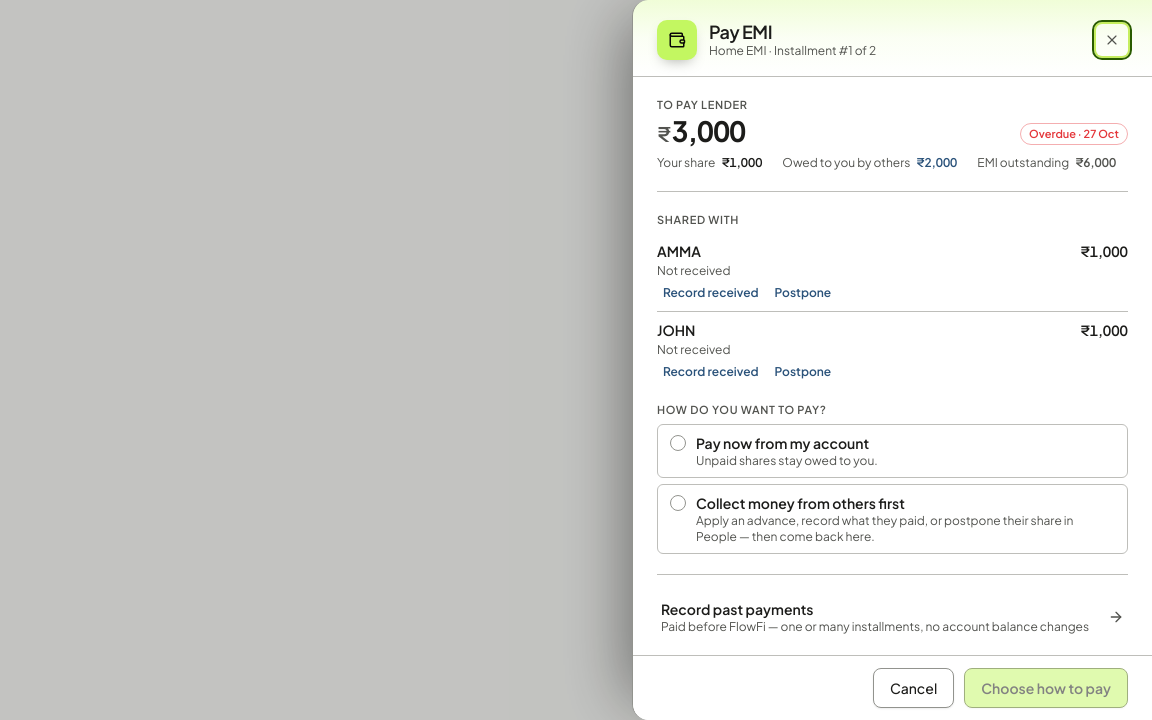
Test case: B — AMMA and JOHN haven't paid › 'Collect money from others first': pick a person, the footer opens THEIR People payment — never the lender
Click the radio button labelled "Collect money from others first".
click(892, 519)  # box [657, 484, 1128, 554]
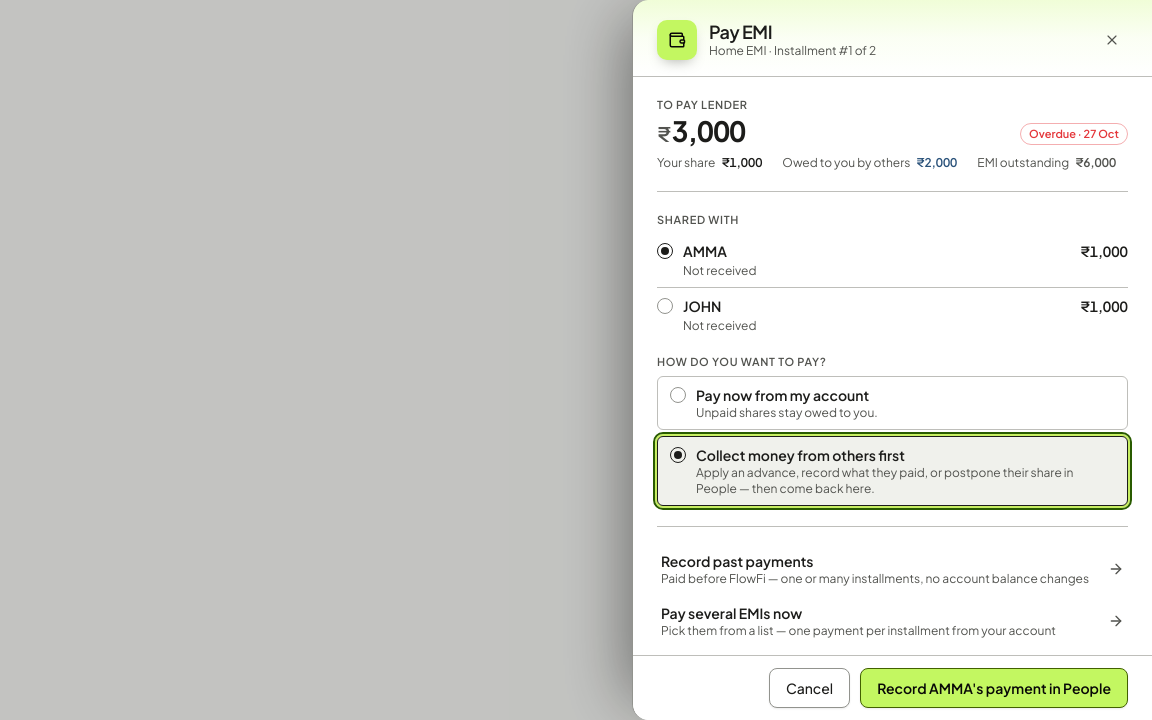
Click the radio button with aria-label "Collect from JOHN".
click(702, 306)  # box [657, 296, 1128, 334]
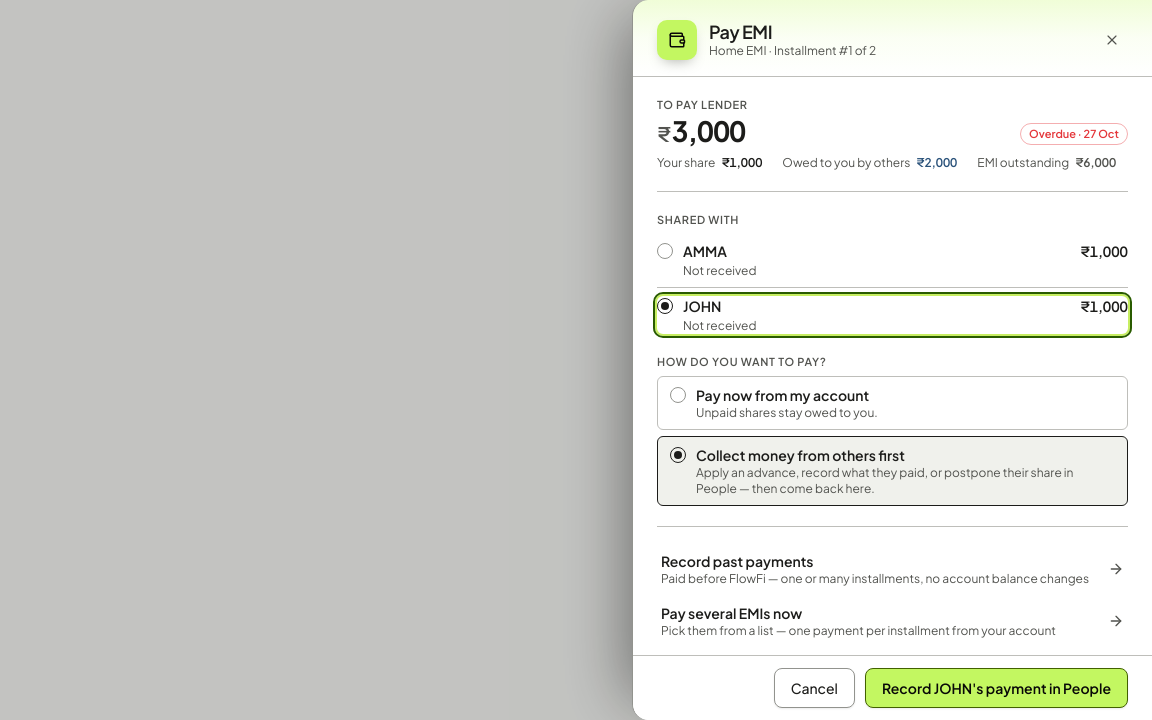
Click the button "Record JOHN's payment in People".
click(996, 688)  # box [865, 668, 1128, 708]
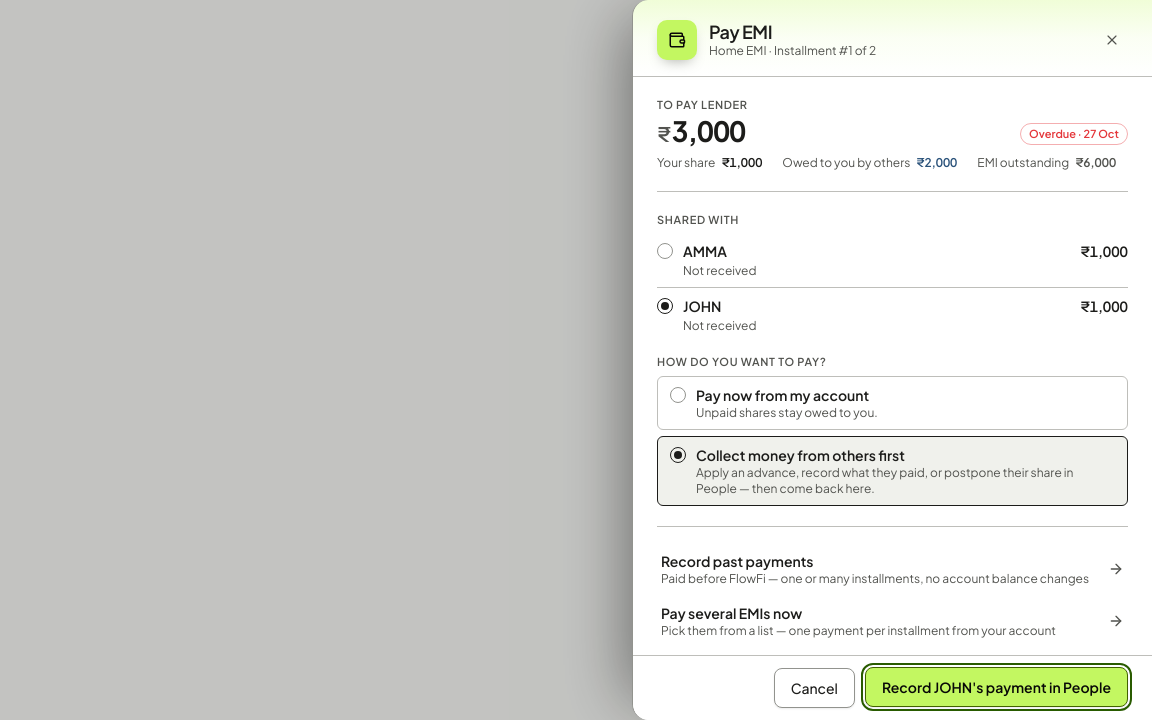
# Switching back to paying drops the People step again.
Click the radio button labelled "Pay now from my account Unpaid shares stay owed to you.".
click(783, 395)  # box [657, 376, 1128, 430]
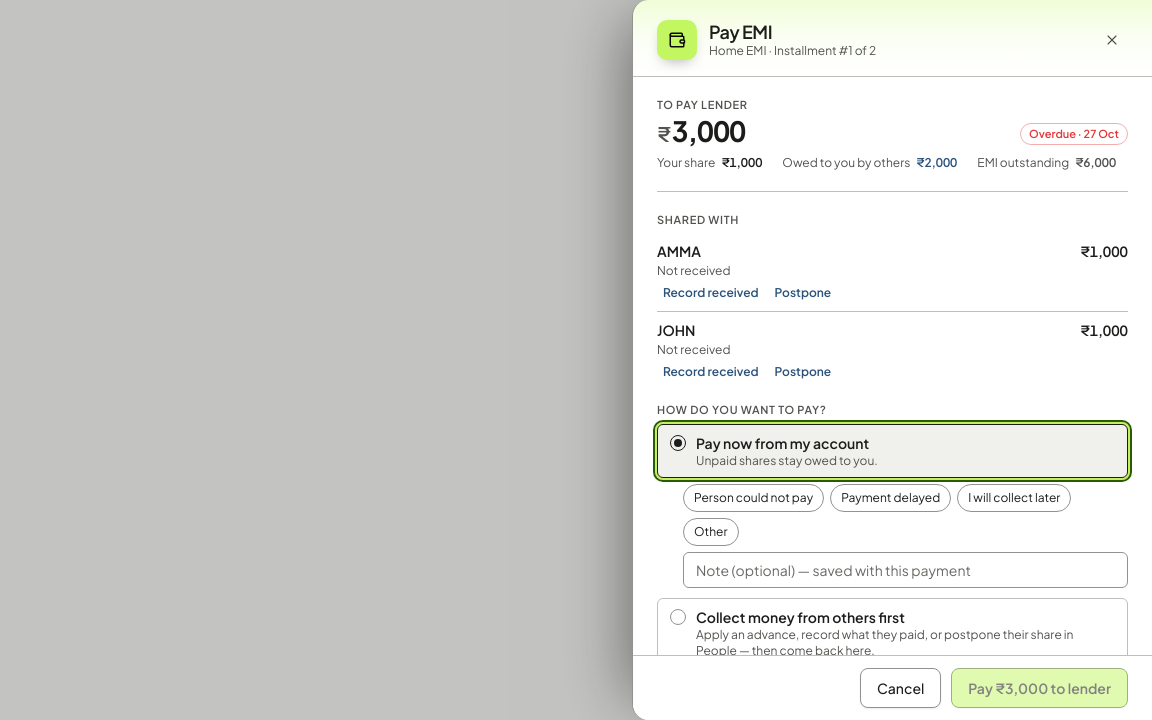
Expected: the button "Pay ₹3,000 to lender" is shown, [951, 668, 1128, 708]
